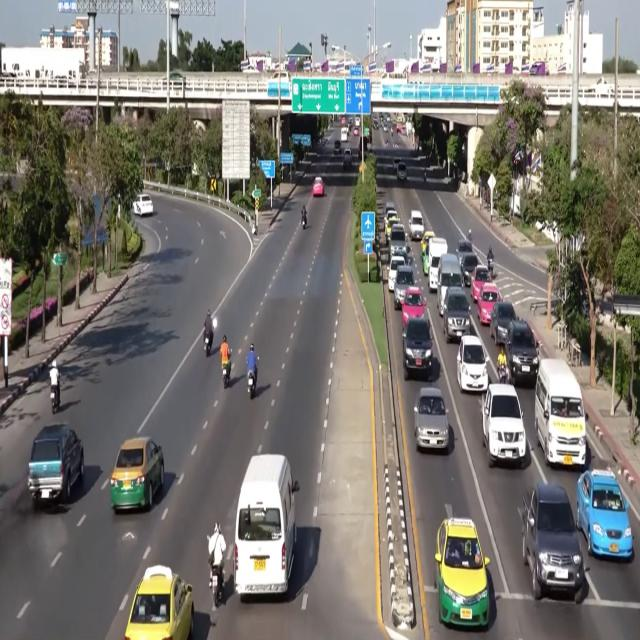car: (435, 519, 489, 629), (125, 566, 194, 639), (576, 470, 633, 558), (28, 424, 84, 508), (111, 438, 164, 511), (482, 384, 526, 467), (505, 319, 539, 384), (414, 387, 448, 450), (403, 316, 432, 380), (457, 336, 489, 391), (443, 287, 470, 342), (490, 301, 516, 344), (477, 282, 501, 324), (402, 287, 425, 327), (394, 266, 414, 310), (471, 265, 490, 302), (388, 256, 407, 292), (461, 254, 478, 287), (389, 224, 407, 255), (133, 194, 153, 216), (410, 210, 424, 240), (456, 240, 473, 264), (385, 210, 399, 238), (421, 231, 435, 255), (394, 248, 412, 265), (312, 177, 324, 197), (343, 149, 352, 169), (397, 162, 406, 181), (385, 201, 396, 216), (332, 140, 342, 156), (169, 72, 185, 81), (393, 157, 401, 169), (355, 117, 360, 127), (354, 127, 359, 136), (383, 124, 388, 132), (341, 117, 345, 126)
scooty: (204, 319, 217, 357), (221, 361, 231, 389), (50, 385, 59, 414), (498, 365, 508, 383)
truck: (519, 482, 585, 603), (2, 48, 85, 80)
